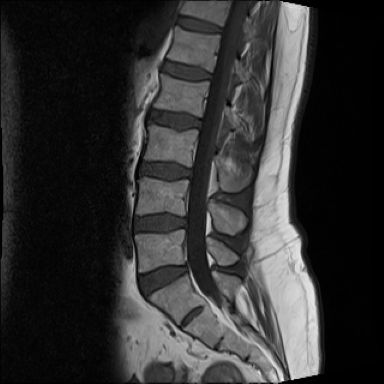Normal IVD: (135, 257, 191, 301), (158, 55, 215, 84), (124, 211, 189, 236), (135, 156, 194, 183), (145, 107, 202, 132), (175, 12, 223, 38)
